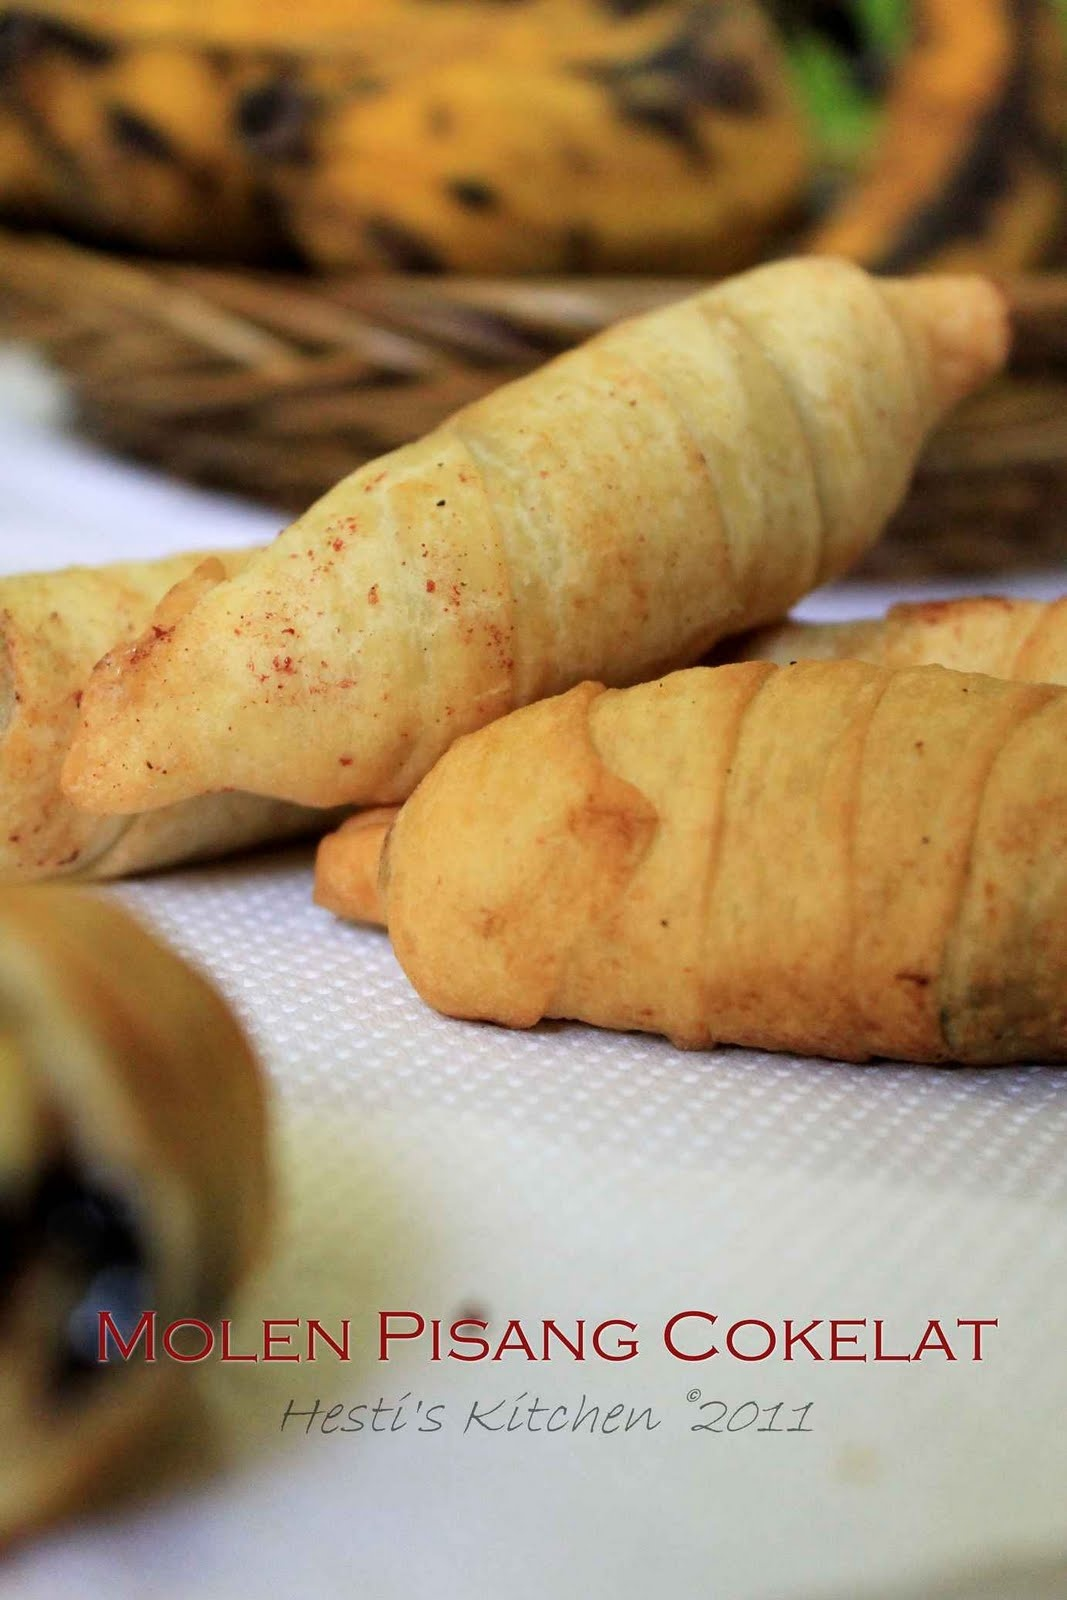pisang_molen: (61, 252, 1040, 818), (307, 671, 1067, 1070)
